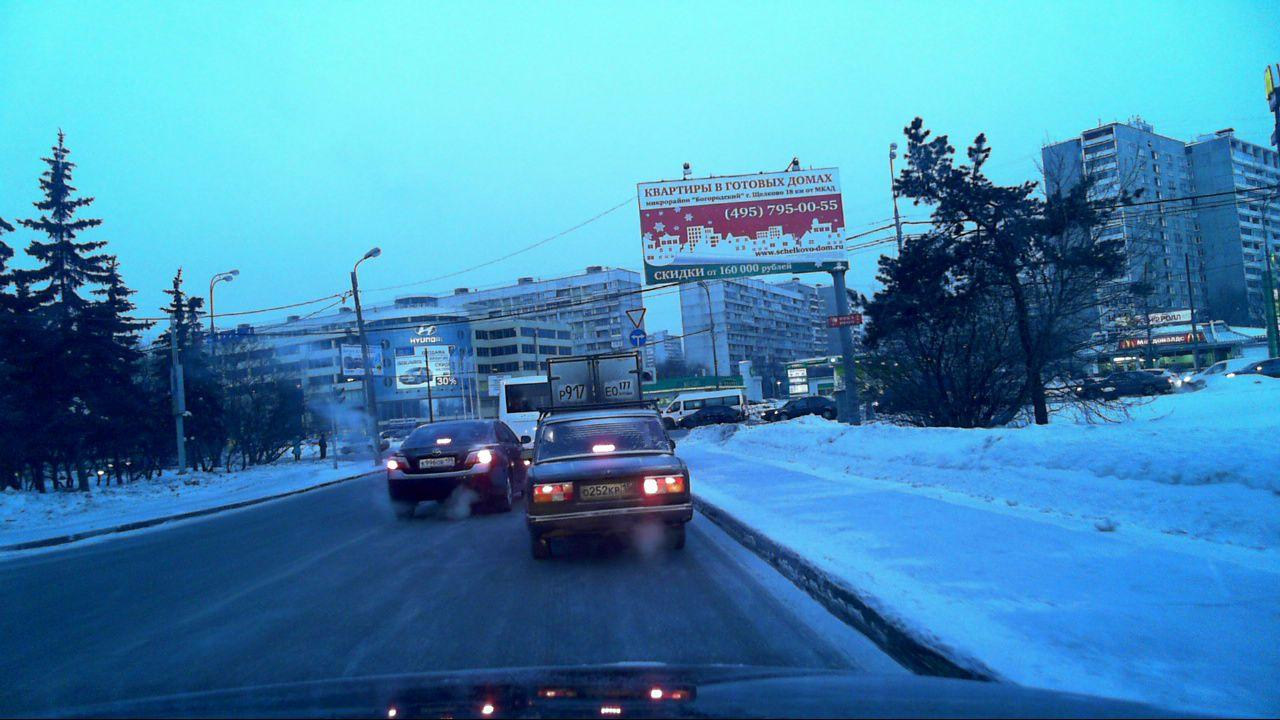2_4: (624, 308, 647, 327)
4_1_6: (629, 329, 646, 349)
